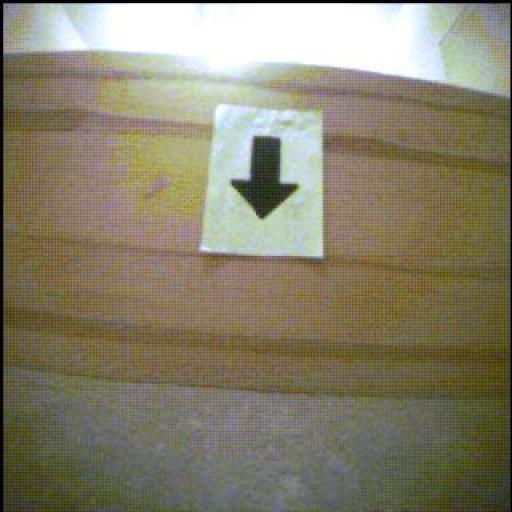arrow: (232, 137, 299, 220)
